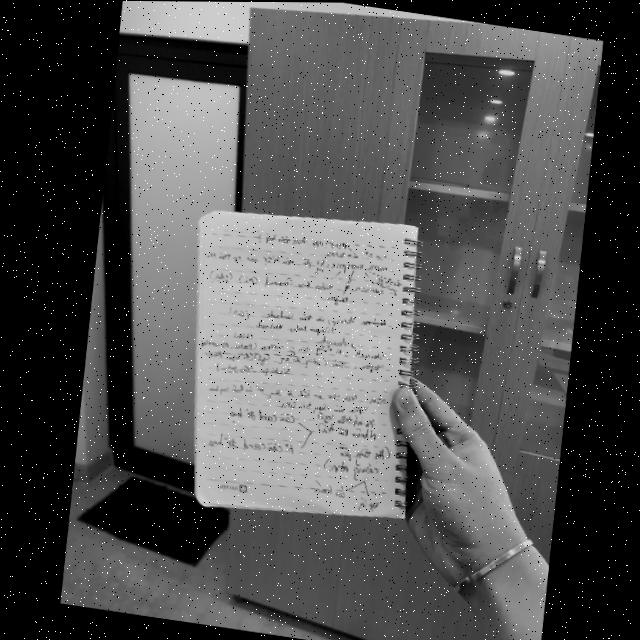document: (194, 209, 419, 519)
